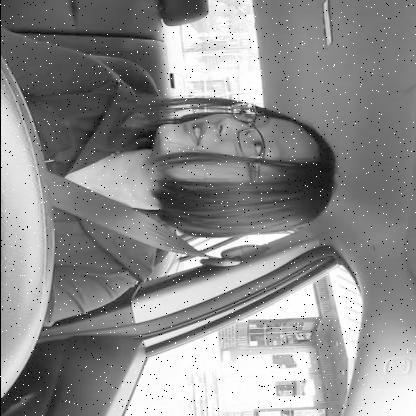seatbelt: (42, 80, 340, 272)
